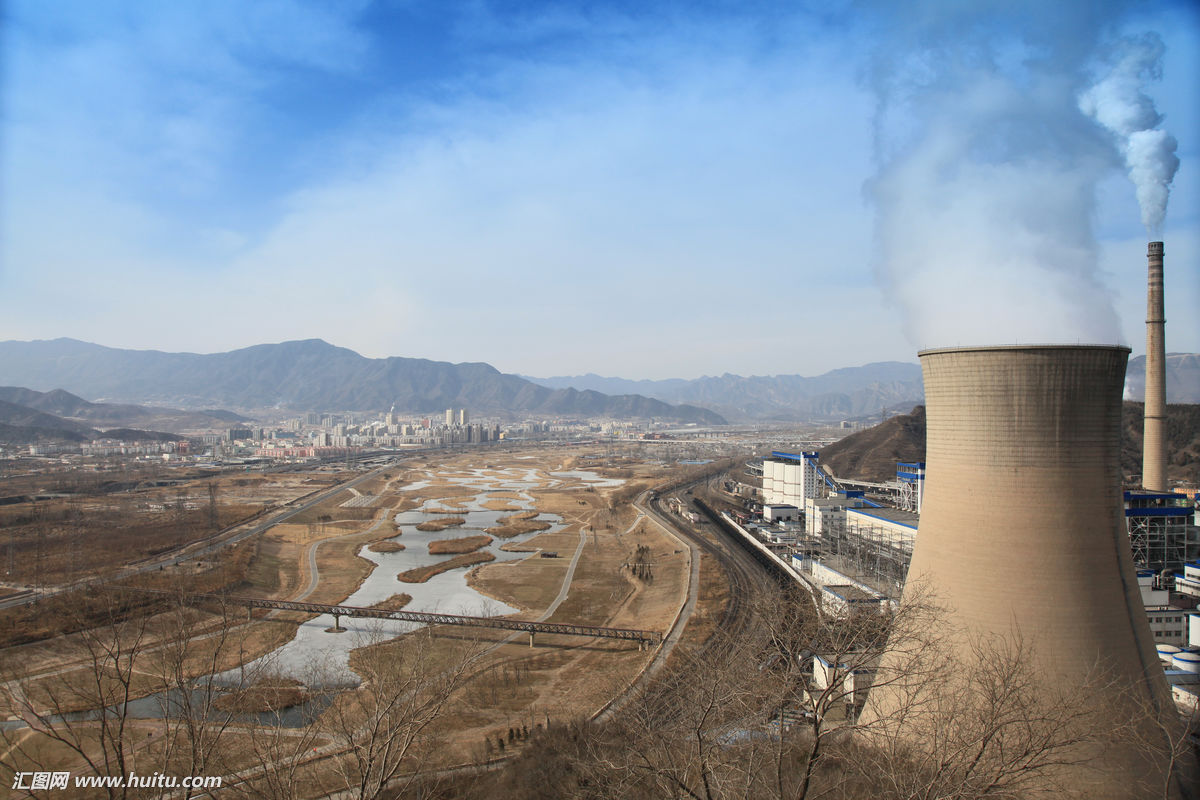dust: (864, 146, 1134, 382), (1089, 53, 1189, 267)
